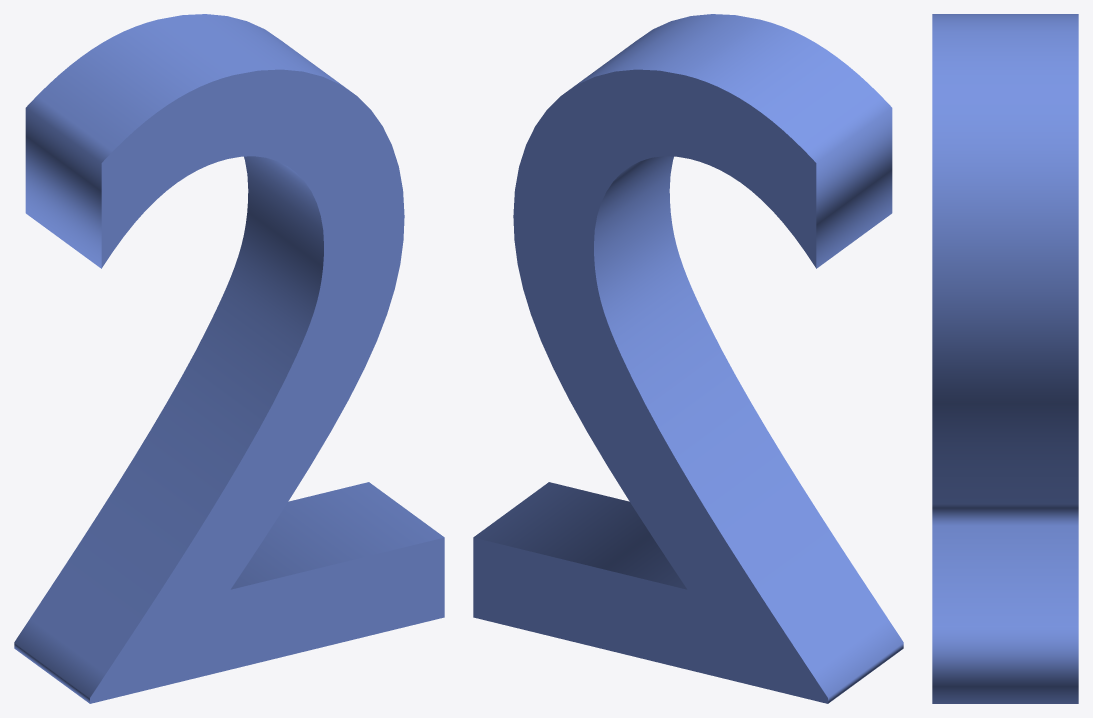
File: num2.gltf
3 renders of one model, left to right at view 1: azimuth 30°, elevation 25°; view 2: azimuth 150°, elevation 25°; view 3: azimuth 270°, elevation 25°, orthographic. The views are drawn at different scales.
Visible parts, largest first — view 1: num2; view 2: num2; view 3: num2.
Part boxes in pixels (<box>): num2: <box>14,14,444,703</box>; num2: <box>473,14,903,703</box>; num2: <box>932,14,1078,703</box>.
Size of the model in its own units: 0.432 by 0.691 by 0.16.
